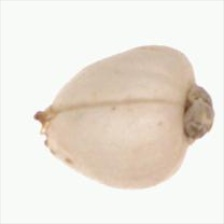L3: (30, 104, 57, 144)
L4: (33, 45, 214, 190)
